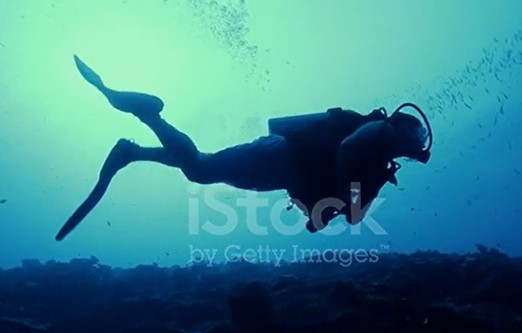human: (53, 53, 416, 242)
